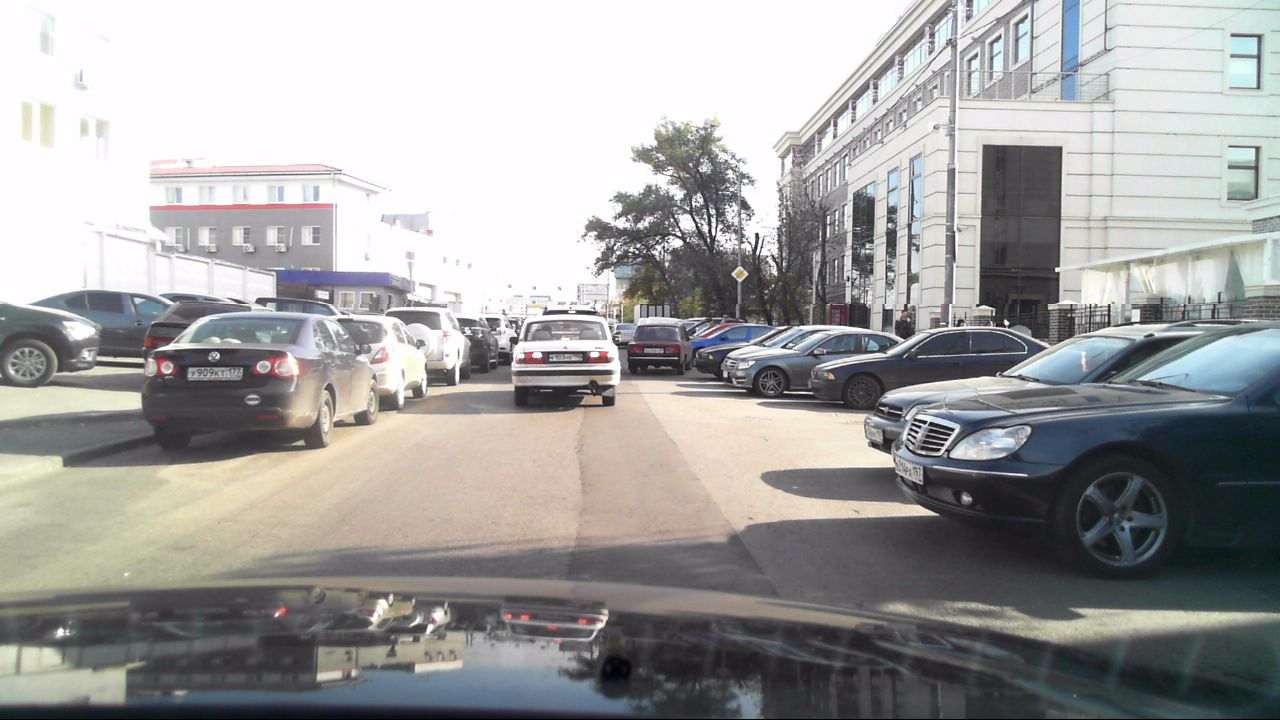main road: (730, 266, 750, 286)
